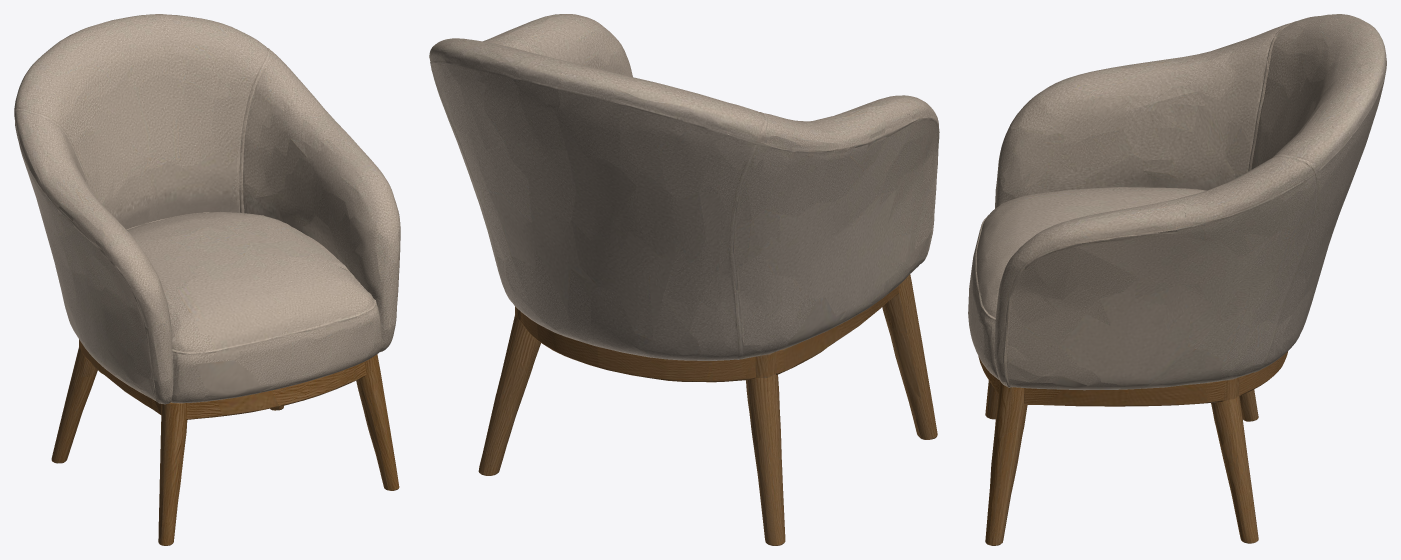
The model's file is seat.glb.
The picture shows the model from 3 angles, left to right: view 1: azimuth 30°, elevation 25°; view 2: azimuth 150°, elevation 25°; view 3: azimuth 270°, elevation 25°; orthographic projection. The views are drawn at different scales.
Parts seen in each view (by area): view 1: Mesh_0; view 2: Mesh_0; view 3: Mesh_0.
Boxes of the visible parts, box(x1,y1,x2,y2) form: Mesh_0: box(14, 14, 400, 545); Mesh_0: box(429, 14, 939, 545); Mesh_0: box(968, 14, 1386, 545).
Bounding box in the file's own units: 1.54 × 1.9 × 1.67.
Materials: 1 (1 with a texture image).
